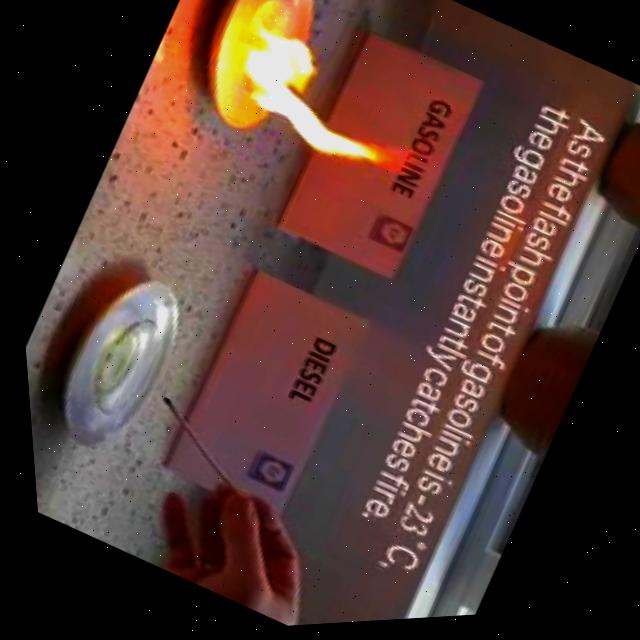Fire: (207, 7, 439, 206)
